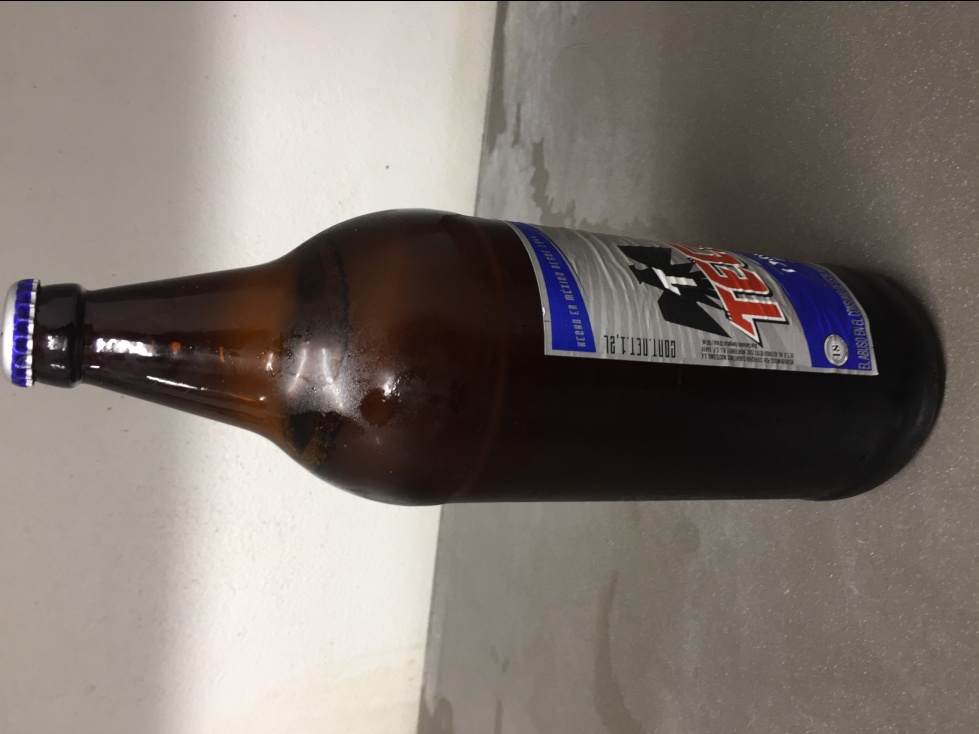tecateC: (1, 207, 947, 508)
